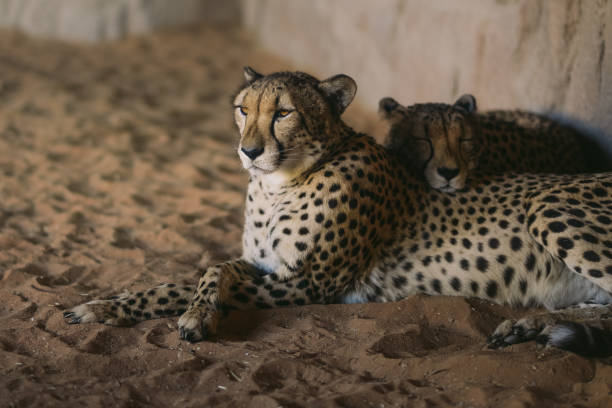cheetah: (213, 56, 364, 188)
